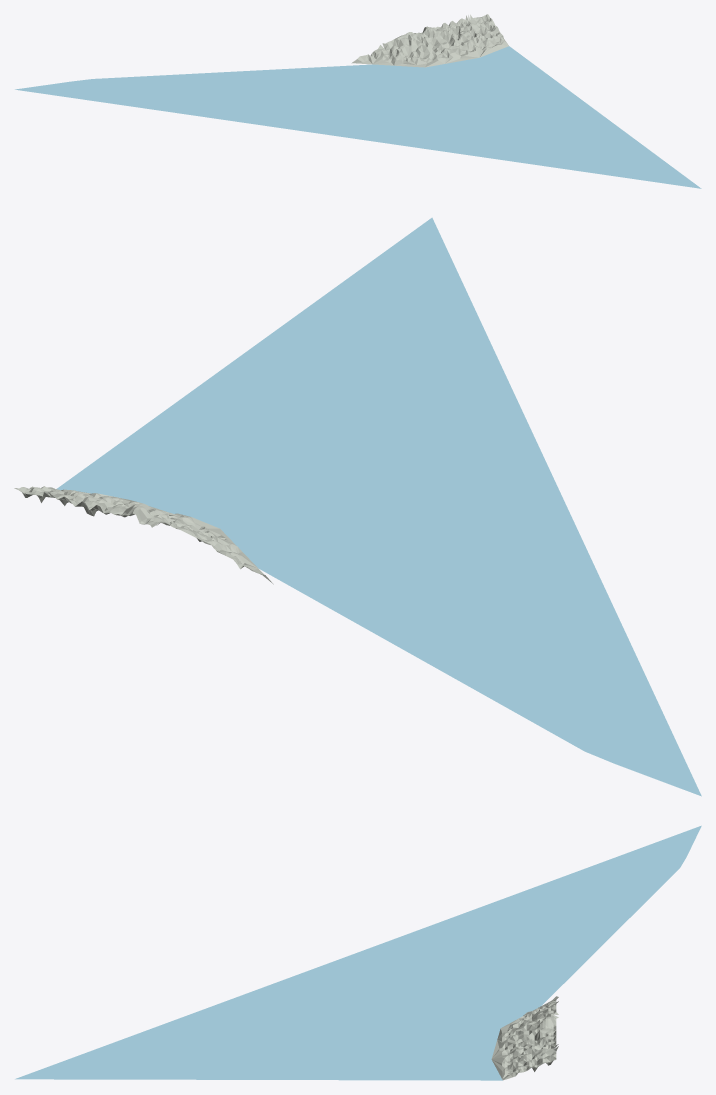
File: terrain-context-C-x3-z1.glb
3 views of the same model, one above another, from view 1: azimuth 30°, elevation 25°; view 2: azimuth 150°, elevation 25°; view 3: azimuth 270°, elevation 25° (orthographic). The views are drawn at different scales.
Parts seen in each view (by area): view 1: C-x3-z1; view 2: C-x3-z1; view 3: C-x3-z1.
Part boxes in pixels (x1=…): C-x3-z1: x1=15, y1=14, x2=701, y2=188; C-x3-z1: x1=14, y1=217, x2=701, y2=796; C-x3-z1: x1=15, y1=825, x2=701, y2=1080.
Size of the model in its own units: 111 by 5.17 by 127.
